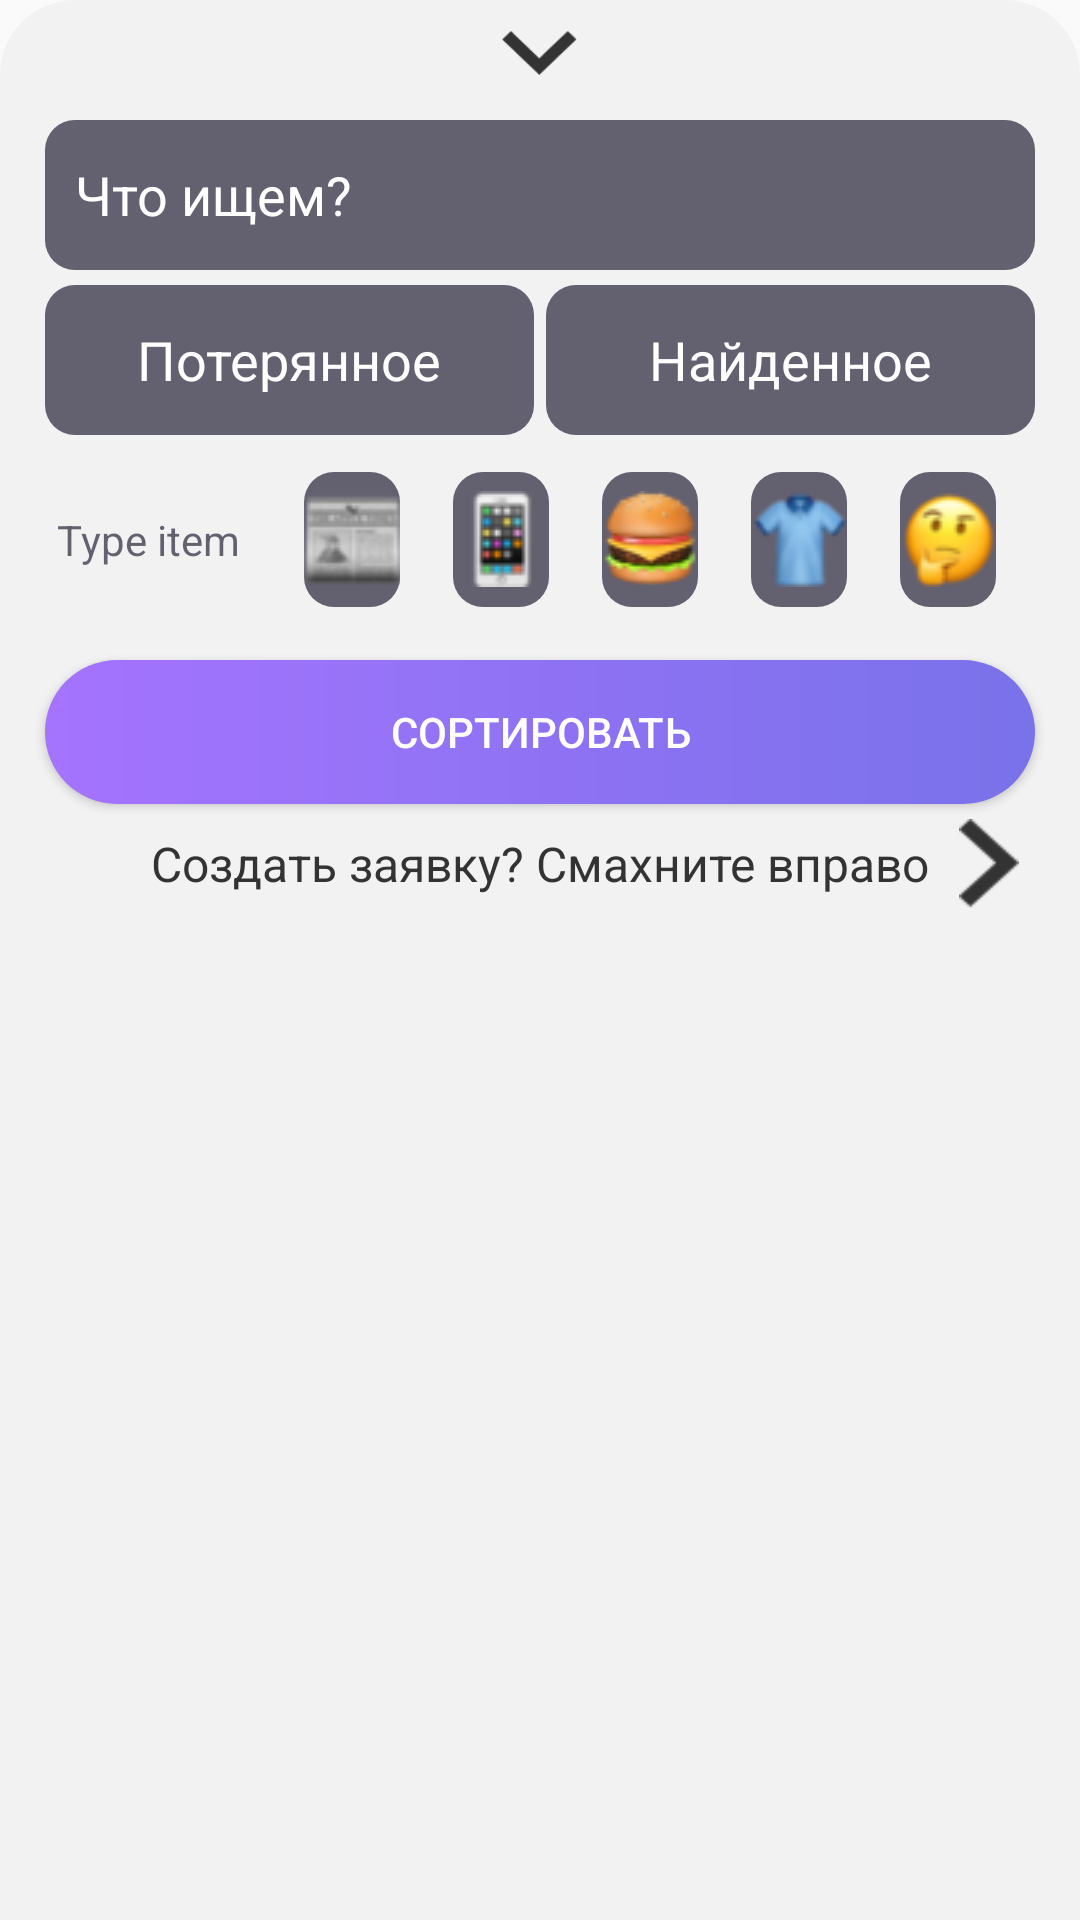

Where icons sit on this 1080 × 1920 app screen, as (x1, y1, x2, y2):
clothing: (751, 472, 847, 607)
document: (304, 472, 400, 607)
down arrow: (502, 31, 577, 75)
eat: (602, 472, 698, 607)
electronic: (453, 472, 549, 607)
other icno: (900, 472, 996, 607)
right arrow: (959, 819, 1019, 907)
